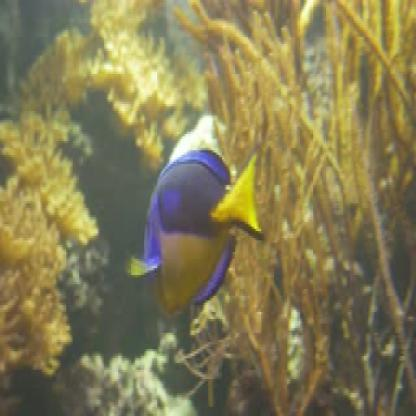Acanthuridae -Surgeonfishes-: (126, 140, 264, 322)
